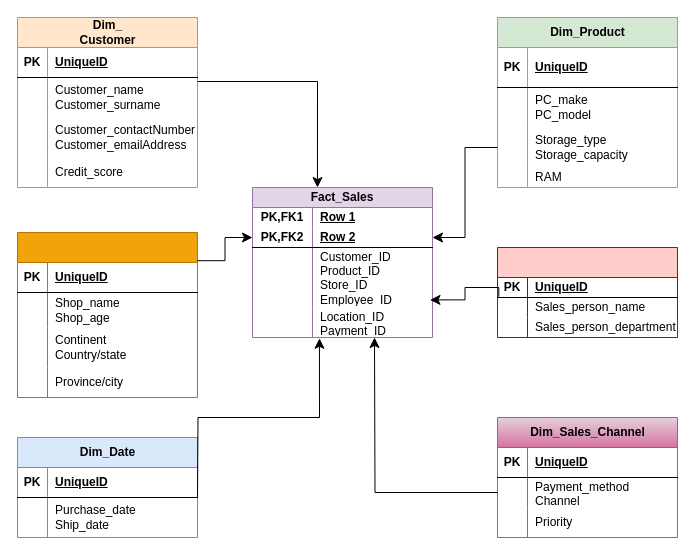
The diagram is 695 pixels wide and 555 high, and some of its shapes have lost their labels. Each missing label, with the box of its shape:
Dim_Employee: (496, 246, 678, 338)
Dim_Store: (16, 232, 198, 398)
